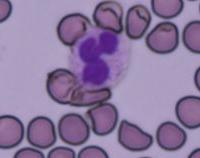N: (69, 26, 131, 90)
